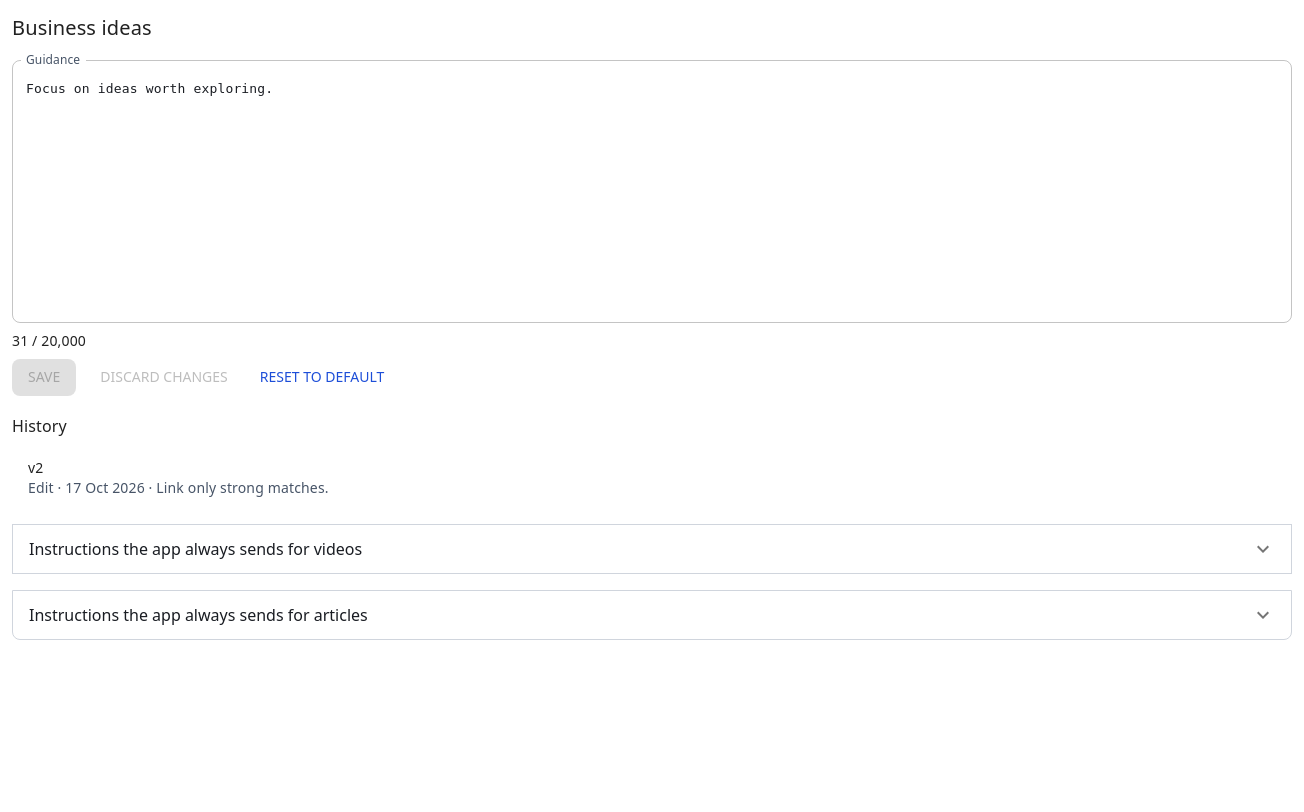
Test: PromptPanel, a summary profile › marks edits as unsaved and enables Save
The width and height of the screenshot is (1304, 812).
Replace the text in the text box labelled "Guidance" with "Something else" at (652, 192), box [26,76,1278,306]
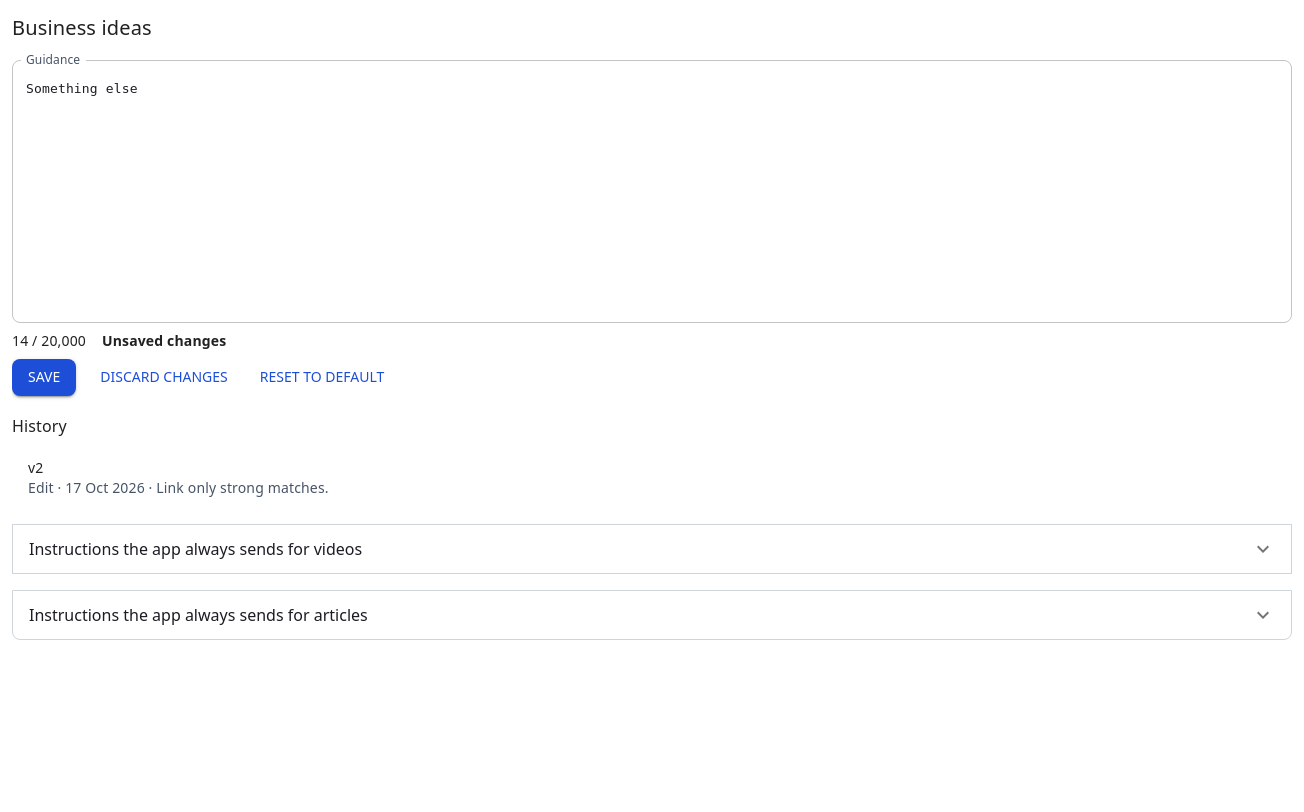
Expected: the text "Unsaved changes" is shown, [102,331,226,351]
Expected: the button "Save" is enabled, [12,359,76,396]
